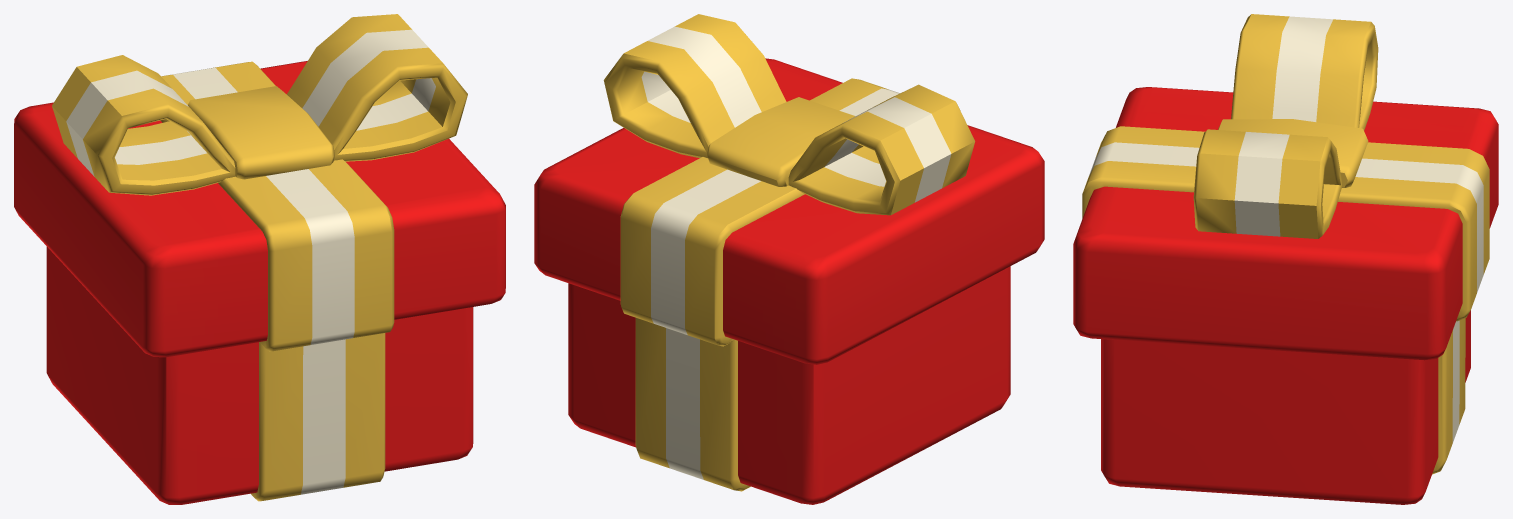
The picture shows the model from 3 angles, left to right: view 1: azimuth 30°, elevation 25°; view 2: azimuth 150°, elevation 25°; view 3: azimuth 270°, elevation 25°; orthographic projection. The views are drawn at different scales.
Visible parts, largest first — view 1: model_0.065; view 2: model_0.065; view 3: model_0.065.
Boxes of the visible parts, bbox=[...] form: model_0.065: bbox=[14, 14, 505, 504]; model_0.065: bbox=[534, 14, 1044, 504]; model_0.065: bbox=[1073, 14, 1498, 504].
Size of the model in its own units: 4.17 by 3.87 by 4.17.
